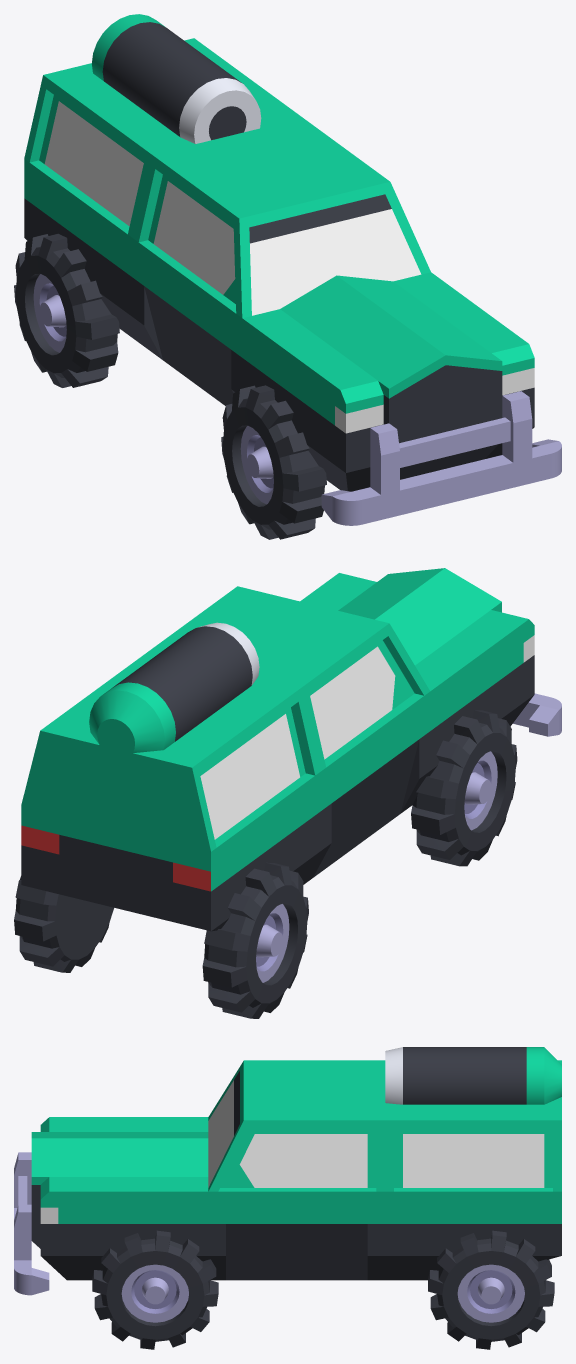
Rendered from Jeep.fbx.
The picture shows the model from 3 angles, top to bottom: view 1: azimuth 30°, elevation 25°; view 2: azimuth 150°, elevation 25°; view 3: azimuth 270°, elevation 25°; orthographic projection. The views are drawn at different scales.
Parts seen in each view (by area): view 1: body_frontLuxury, body_topSteep, wheel_ridges (×2), body_topCenter, bumper_large, attachment_silencer, body_edge, body_backSolid; view 2: body_topCenter, wheel_ridges (×3), body_backSolid, body_frontLuxury, body_topSteep, attachment_silencer, body_edge, bumper_large; view 3: body_frontLuxury, wheel_ridges (×2), body_topSteep, body_edge, body_topCenter, body_backSolid, attachment_silencer, bumper_large.
Boxes of the visible parts, x1,y1,x2,y2 form: body_frontLuxury: (242, 272, 534, 491); body_topSteep: (133, 118, 430, 318); wheel_ridges (×2): (14, 233, 326, 539); body_topCenter: (24, 38, 302, 237); bumper_large: (321, 391, 561, 525); attachment_silencer: (92, 14, 261, 143); body_edge: (133, 239, 242, 405); body_backSolid: (24, 159, 151, 351); body_topCenter: (21, 650, 320, 851); wheel_ridges (×3): (14, 710, 517, 1018); body_backSolid: (21, 772, 320, 931); body_frontLuxury: (300, 568, 534, 805); body_topSteep: (150, 586, 430, 771); attachment_silencer: (89, 622, 259, 759); body_edge: (303, 692, 430, 884); bumper_large: (513, 693, 561, 736); body_frontLuxury: (31, 1117, 208, 1280); wheel_ridges (×2): (92, 1230, 554, 1349); body_topSteep: (208, 1060, 385, 1191); body_edge: (208, 1188, 385, 1280); body_topCenter: (385, 1060, 561, 1191); body_backSolid: (385, 1188, 561, 1280); attachment_silencer: (385, 1047, 561, 1104); bumper_large: (14, 1152, 49, 1295).
Bounding box in the file's own units: 12.16 × 16.08 × 31.
